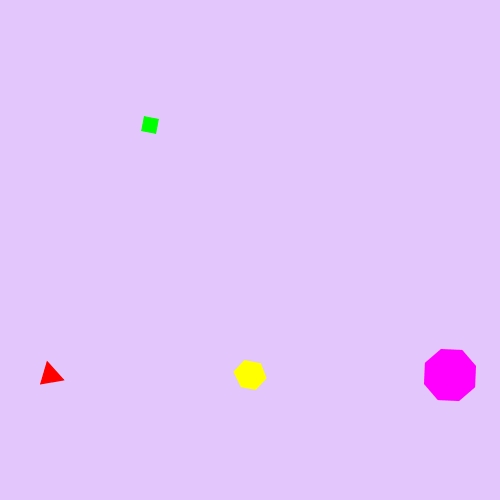hexagon: (230, 358, 271, 393)
octagon: (419, 344, 481, 406)
quadrilateral: (135, 110, 165, 140)
triangle: (35, 359, 66, 391)
